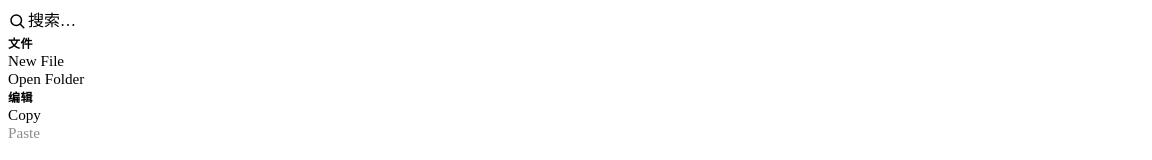
Test: Command › 输入即过滤:只保留命中项
In the dropdown: (585, 21) left=26, top=8, right=1144, bottom=34, type "open"
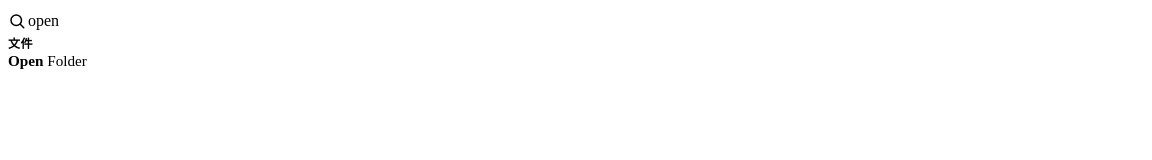
Check: the option reads "Open Folder", box left=8, top=52, right=87, bottom=69
Check: the number of options is 1, box left=8, top=52, right=87, bottom=69
